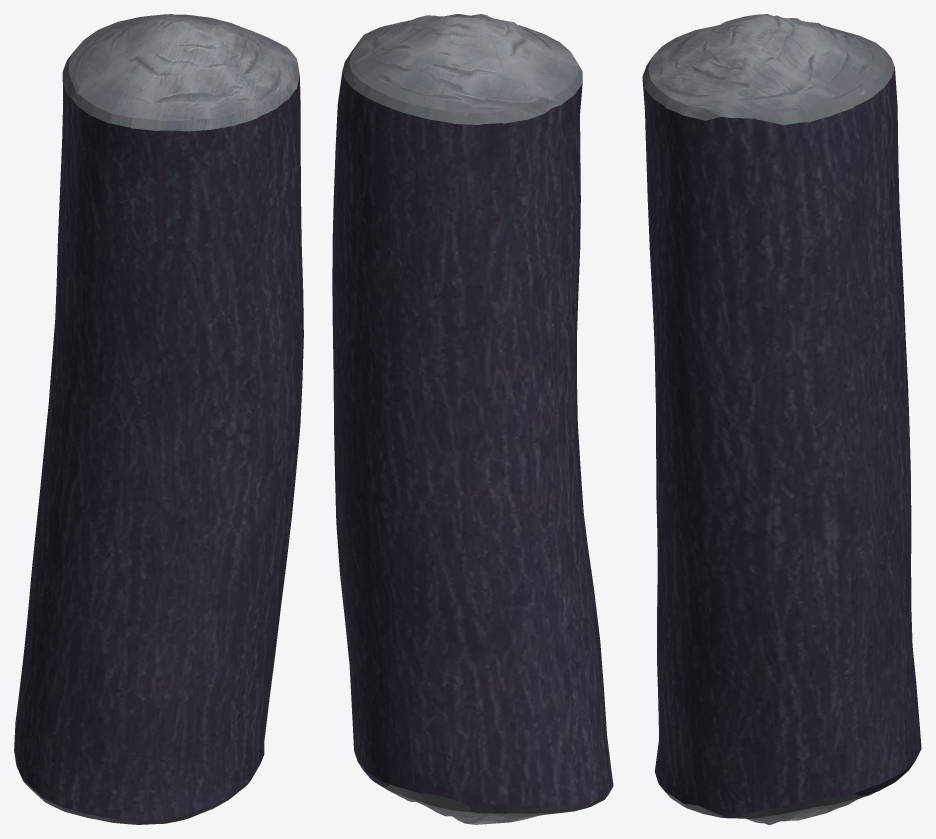
3 renders of one model, left to right at view 1: azimuth 30°, elevation 25°; view 2: azimuth 150°, elevation 25°; view 3: azimuth 270°, elevation 25°, orthographic. The views are drawn at different scales.
Parts seen in each view (by area): view 1: SM_FH_Oak_Tree_01_Canopy_LOD0; view 2: SM_FH_Oak_Tree_01_Canopy_LOD0; view 3: SM_FH_Oak_Tree_01_Canopy_LOD0.
Part boxes in pixels (x1,y1,x2,y2): SM_FH_Oak_Tree_01_Canopy_LOD0: (14,14,303,824); SM_FH_Oak_Tree_01_Canopy_LOD0: (332,14,613,824); SM_FH_Oak_Tree_01_Canopy_LOD0: (642,14,921,824).
Bounding box in the file's own units: 0.8999 × 2.66 × 0.8219.
